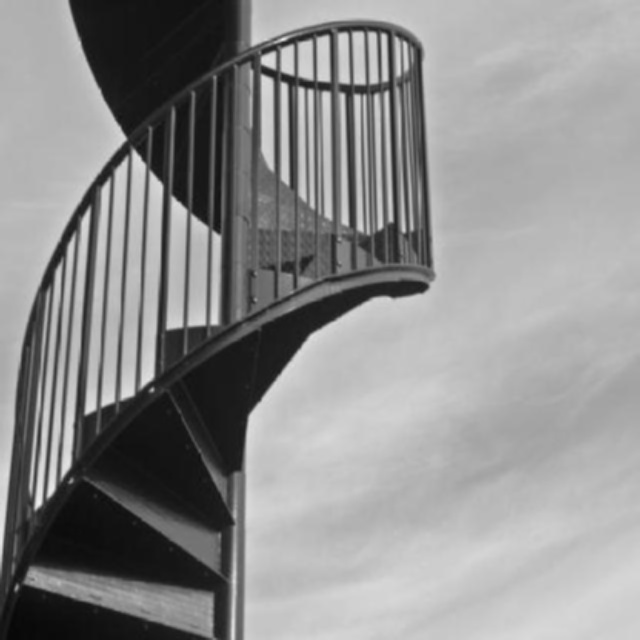stair: (14, 222, 431, 562)
